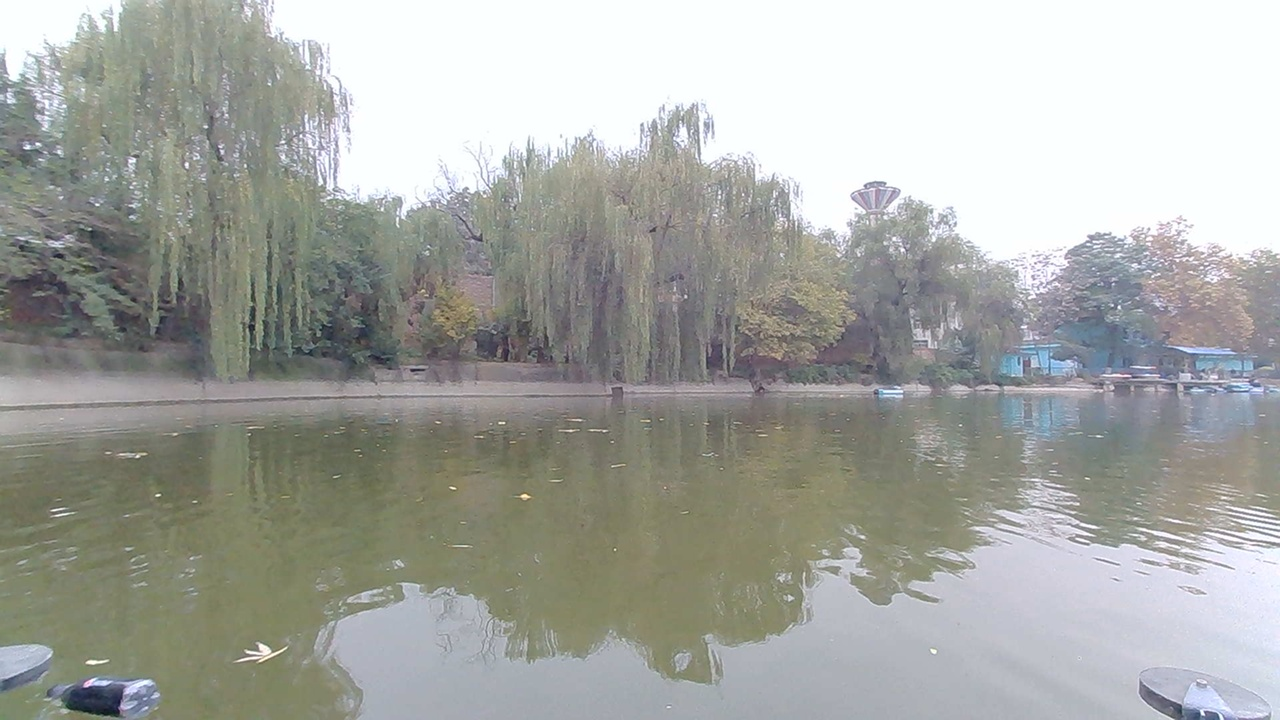bottle: (37, 664, 173, 714)
